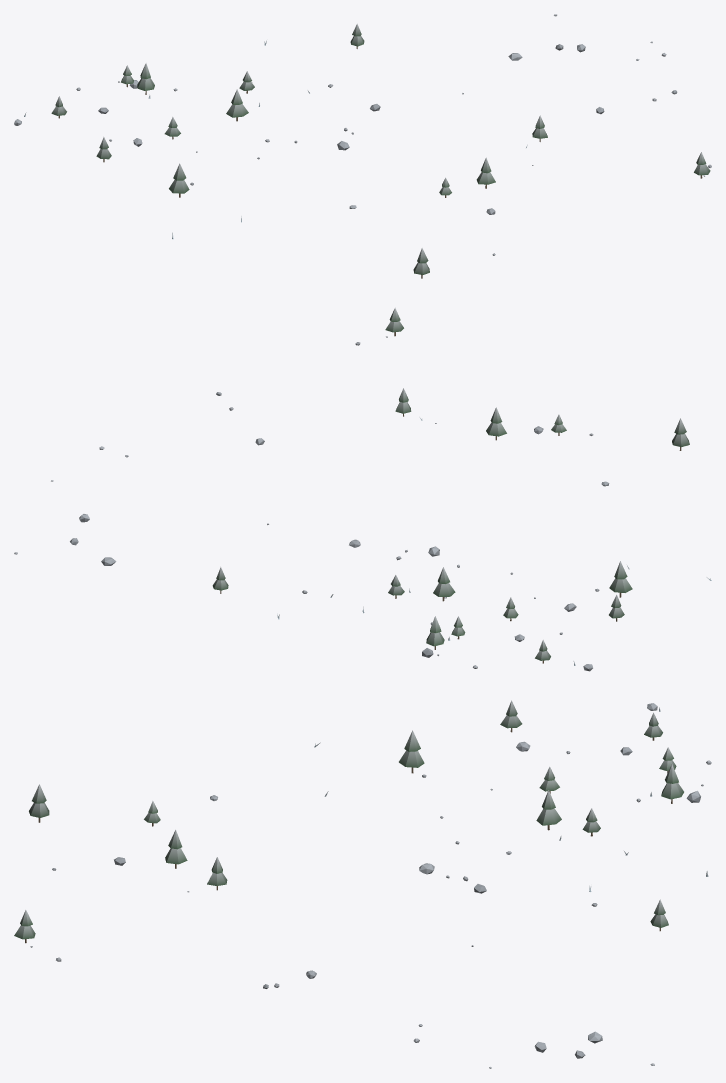
Rendered from frost_land_scatter_c16_11_lod1.glb.
3 renders of one model, top to bottom at view 1: azimuth 30°, elevation 25°; view 2: azimuth 150°, elevation 25°; view 3: azimuth 270°, elevation 25°, orthographic. The views are drawn at different scales.
Parts seen in each view (by area): view 1: frost_land_scatter_c16_11_lod1; view 2: frost_land_scatter_c16_11_lod1; view 3: frost_land_scatter_c16_11_lod1.
Part boxes in pixels (x1,y1,x2,y2): frost_land_scatter_c16_11_lod1: (14, 14, 711, 278); frost_land_scatter_c16_11_lod1: (14, 307, 711, 671); frost_land_scatter_c16_11_lod1: (14, 700, 711, 1068).
Size of the model in its own units: 245 by 35.35 by 207.
